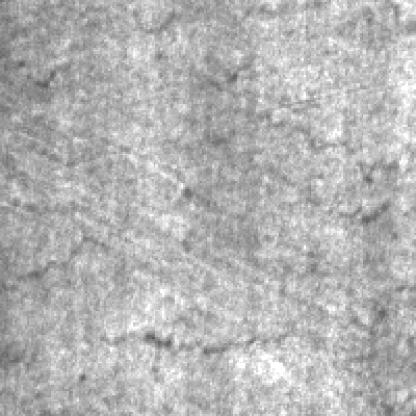crazing: (184, 54, 404, 235), (2, 142, 144, 304)
